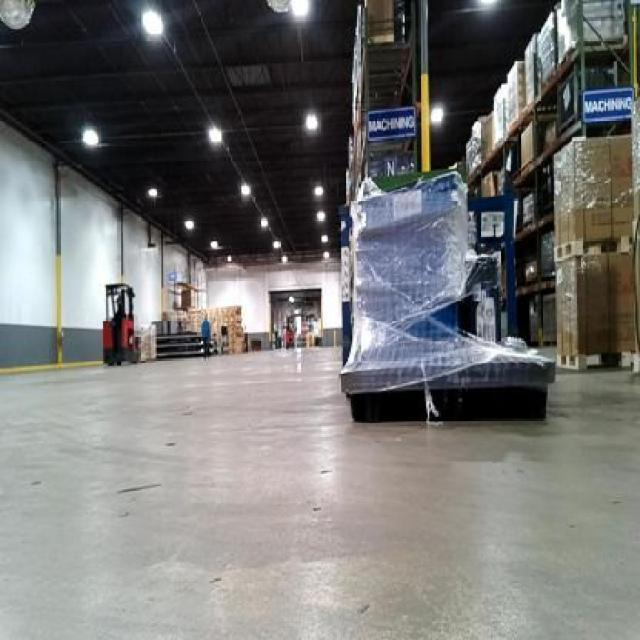forklift: (103, 280, 140, 365)
